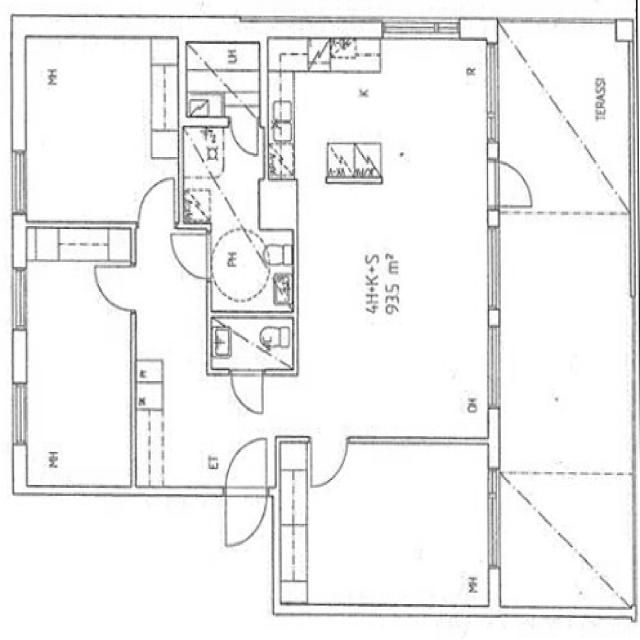door: (218, 433, 271, 554), (217, 323, 280, 414), (488, 152, 541, 214), (127, 168, 180, 226), (90, 259, 138, 316), (167, 225, 213, 283), (307, 438, 349, 492), (227, 366, 266, 418), (228, 110, 262, 163)
window: (352, 428, 483, 454), (480, 211, 508, 324), (381, 12, 464, 43), (483, 314, 507, 416), (482, 467, 504, 573), (5, 138, 32, 223), (7, 263, 33, 338), (8, 380, 32, 450)
zone: (286, 442, 499, 610), (265, 37, 495, 188), (15, 30, 183, 226), (14, 244, 135, 493), (185, 37, 261, 115), (207, 314, 298, 371), (489, 154, 540, 214)
